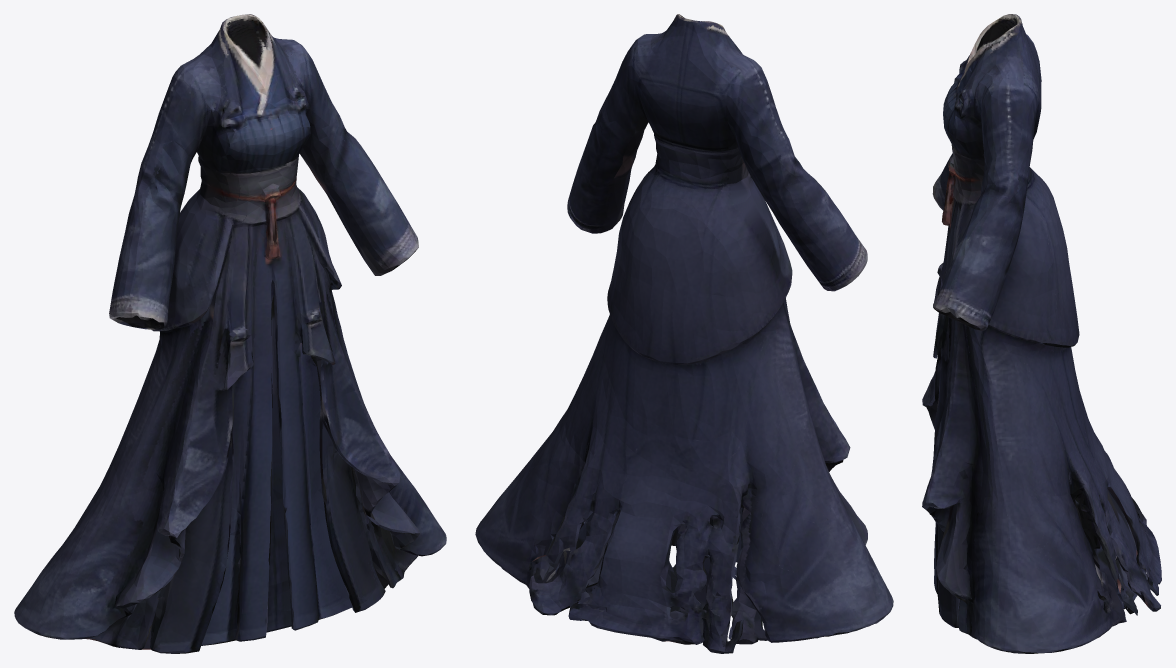
File: mitsue_clerk_source.glb
3 views of the same model, side by side, from view 1: azimuth 30°, elevation 25°; view 2: azimuth 150°, elevation 25°; view 3: azimuth 270°, elevation 25° (orthographic). The views are drawn at different scales.
Visible parts, largest first — view 1: temp_mesh.ply; view 2: temp_mesh.ply; view 3: temp_mesh.ply.
Part boxes in pixels (x1,y1,x2,y2): temp_mesh.ply: (14, 14, 446, 653); temp_mesh.ply: (475, 14, 893, 653); temp_mesh.ply: (922, 14, 1161, 653).
Bounding box in the file's own units: 1.45 × 1.97 × 0.7654.
1 material, 1 textured.
